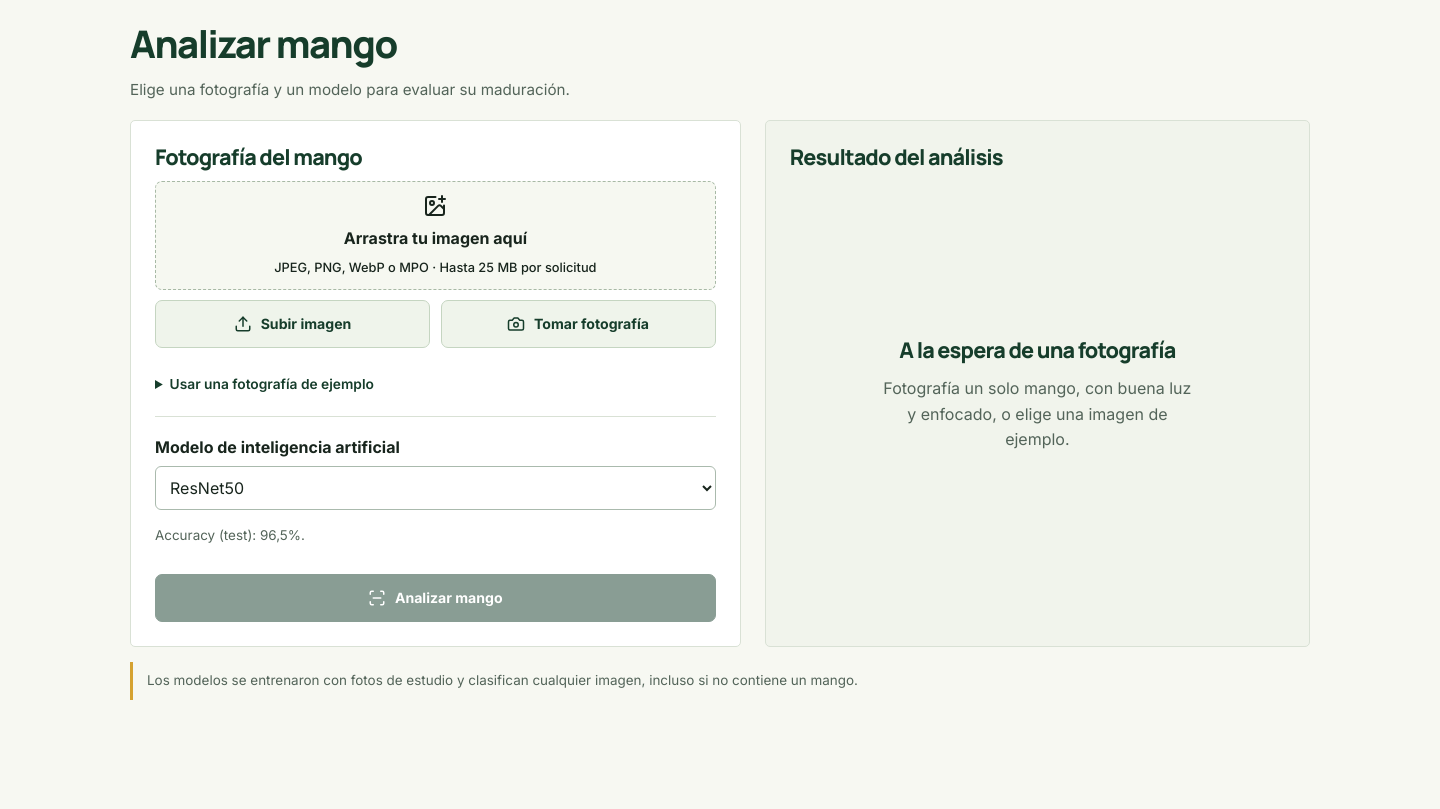
Test: Flujo de análisis › envía el ejemplo En maduración solo después de confirmar
Click the heading "Usar una fotografía de ejemplo".
click(272, 384)  # box x1=170 y1=376 x2=374 y2=392
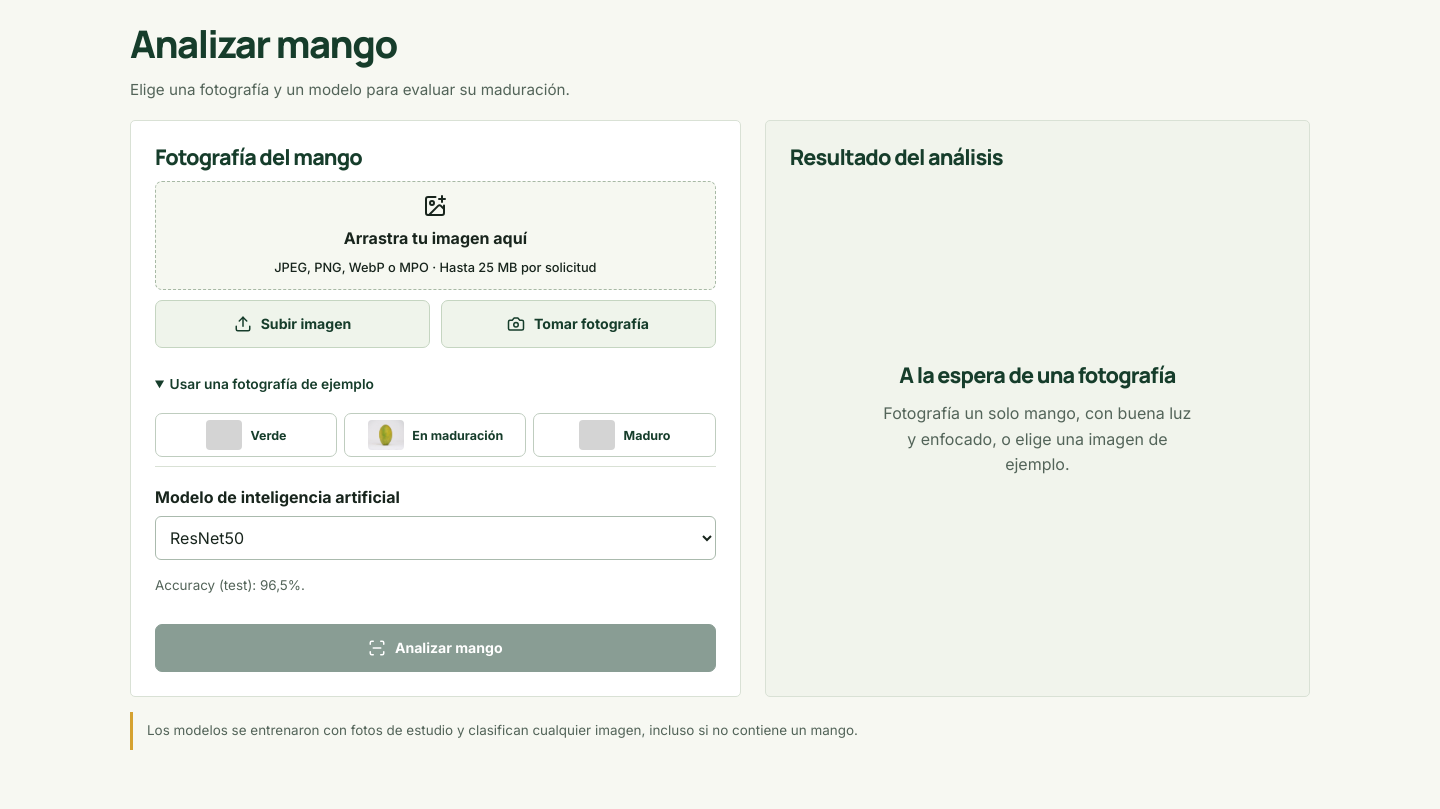
Click the button "En maduración".
click(435, 435)  # box x1=344 y1=413 x2=526 y2=457
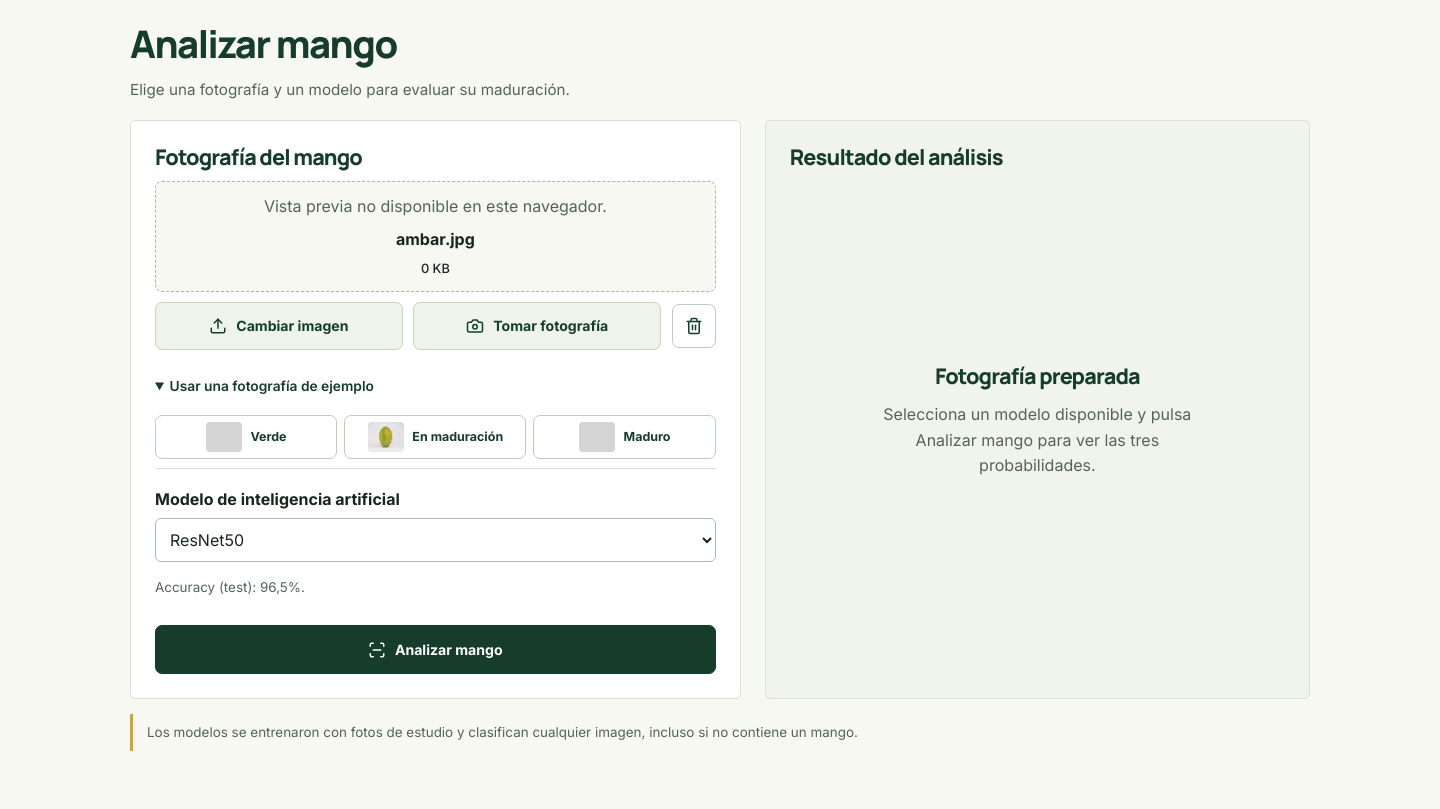
Click the button "Analizar mango".
click(435, 650)  # box x1=155 y1=626 x2=716 y2=674
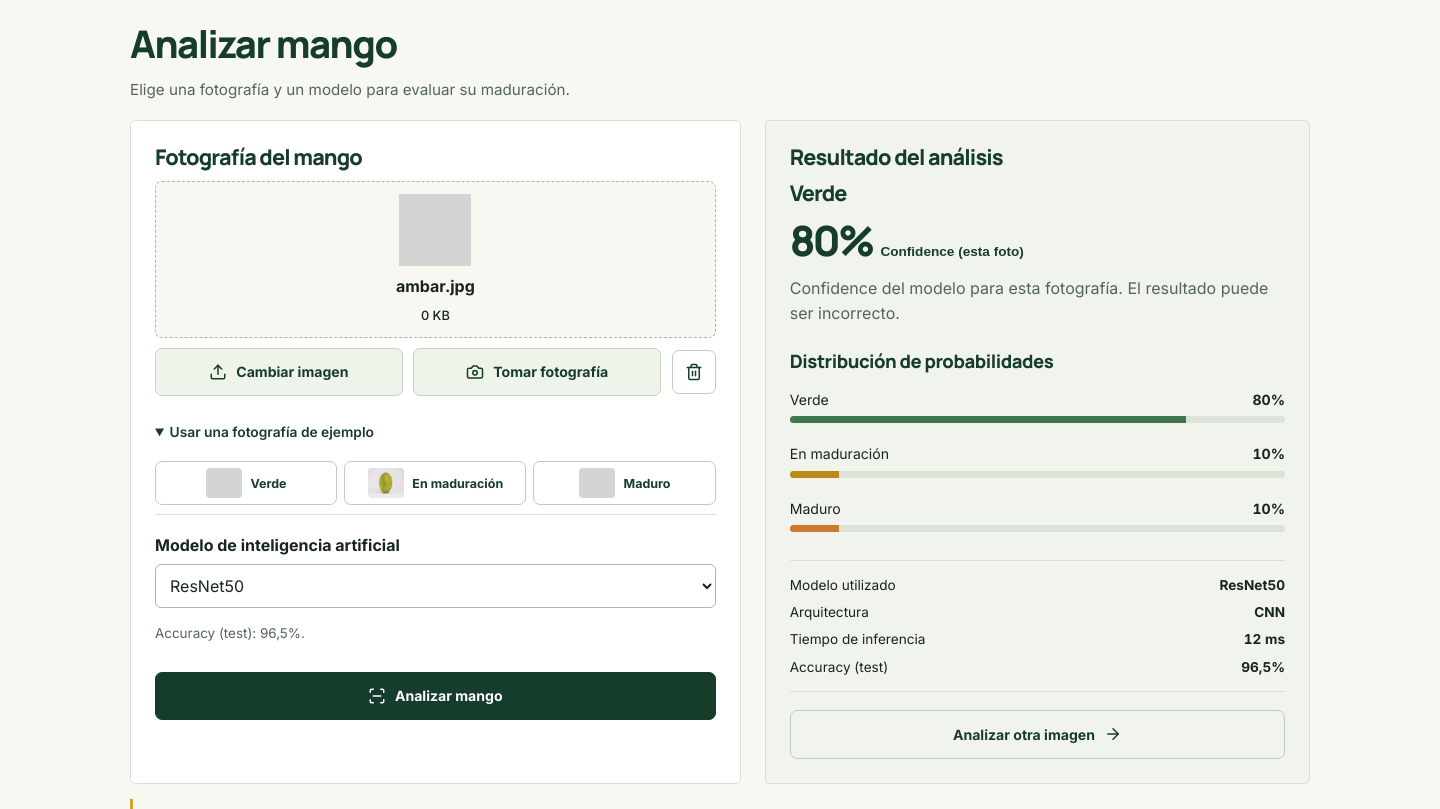
Now the text "12 ms" is shown, box x1=1244 y1=632 x2=1285 y2=648
Now the heading "Verde" is shown, box x1=790 y1=178 x2=847 y2=207
